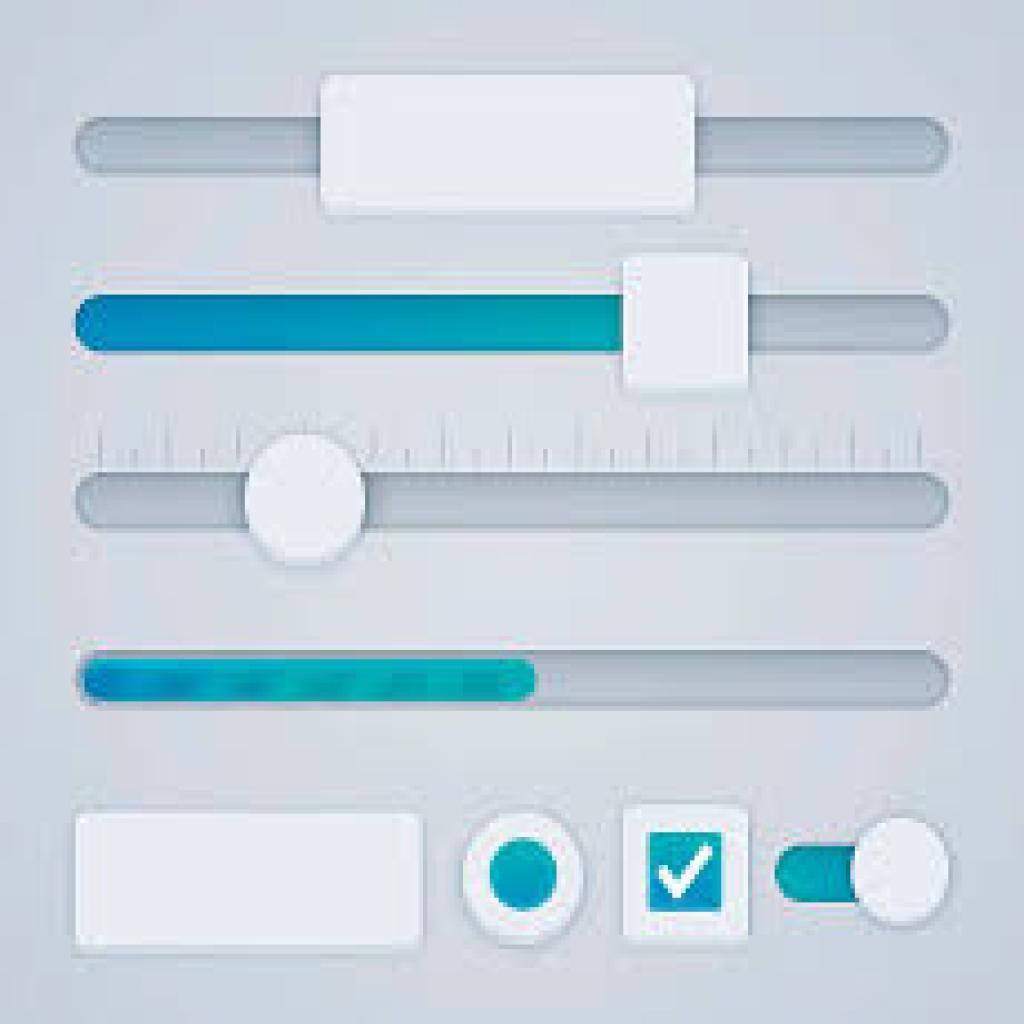checkbox: (646, 835, 725, 914)
radio: (457, 805, 589, 954)
slider: (75, 69, 952, 217), (56, 436, 953, 570), (68, 258, 955, 393), (79, 639, 953, 723)
switch: (772, 814, 957, 938)
